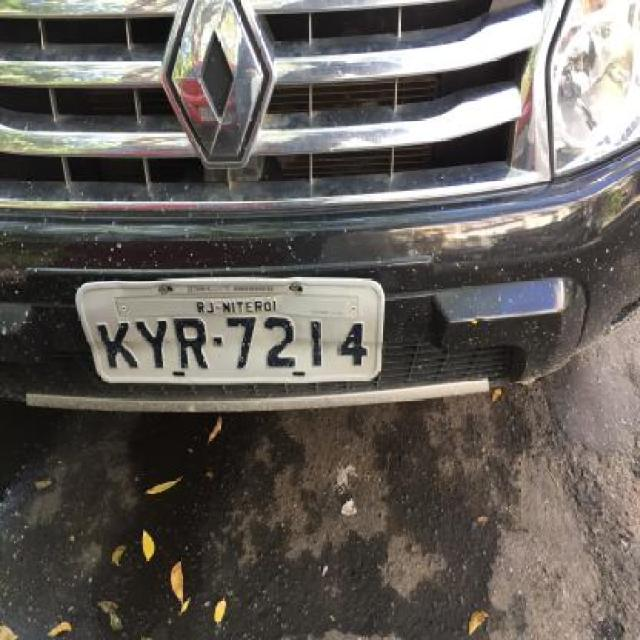old_plate: (70, 270, 392, 392)
